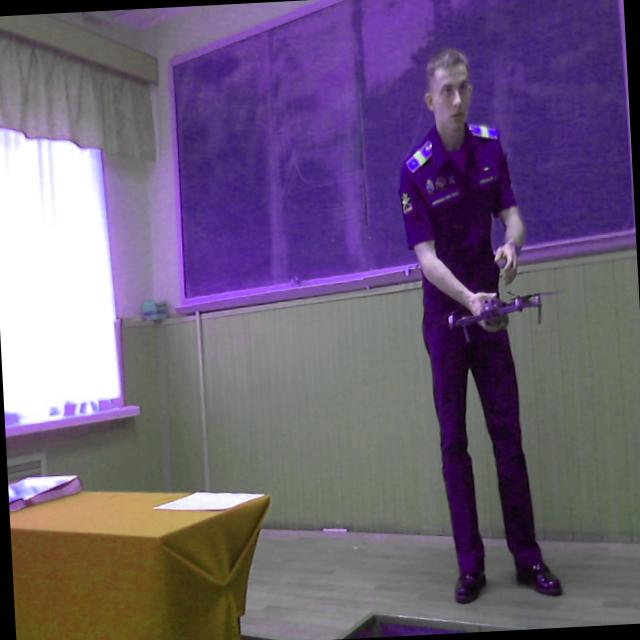drone: (432, 262, 556, 346)
